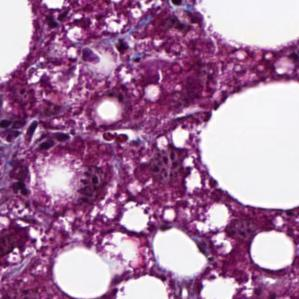inflammation: (20, 115, 75, 154), (22, 117, 75, 154), (6, 160, 34, 197), (105, 33, 138, 57), (97, 127, 135, 147), (98, 128, 133, 148)
